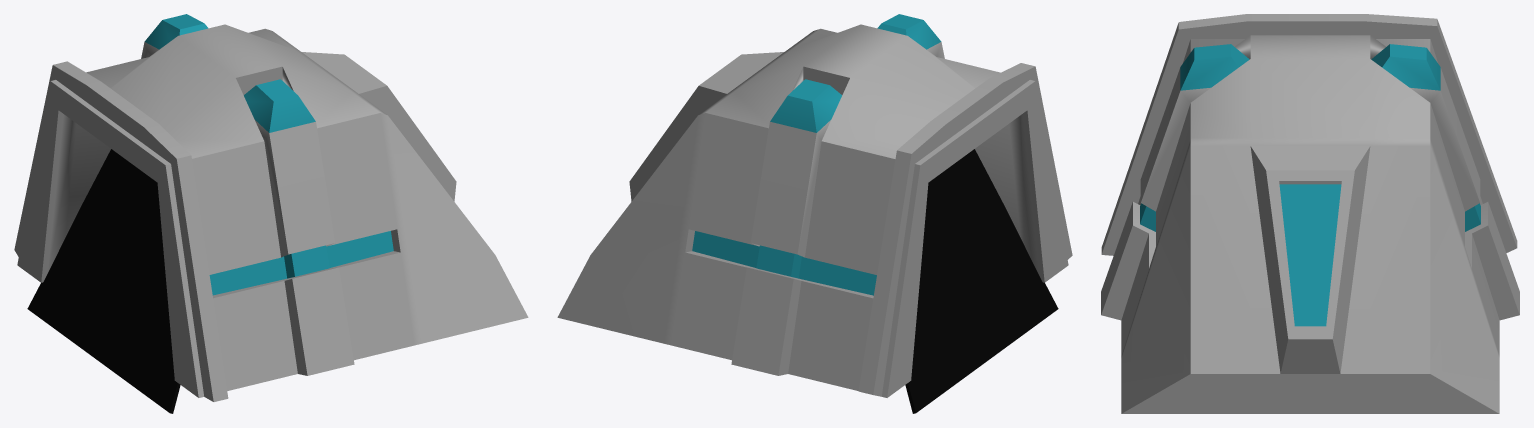
File: ContainerCaareerGate.FBX
3 renders of one model, left to right at view 1: azimuth 30°, elevation 25°; view 2: azimuth 150°, elevation 25°; view 3: azimuth 270°, elevation 25°, orthographic. The views are drawn at different scales.
Visible parts, largest first — view 1: polySurface2; view 2: polySurface2; view 3: polySurface2.
Part boxes in pixels (x1=…): polySurface2: x1=14, y1=14, x2=528, y2=413; polySurface2: x1=557, y1=14, x2=1072, y2=413; polySurface2: x1=1101, y1=14, x2=1519, y2=413.
Size of the model in its own units: 1574 by 1210 by 1577.
